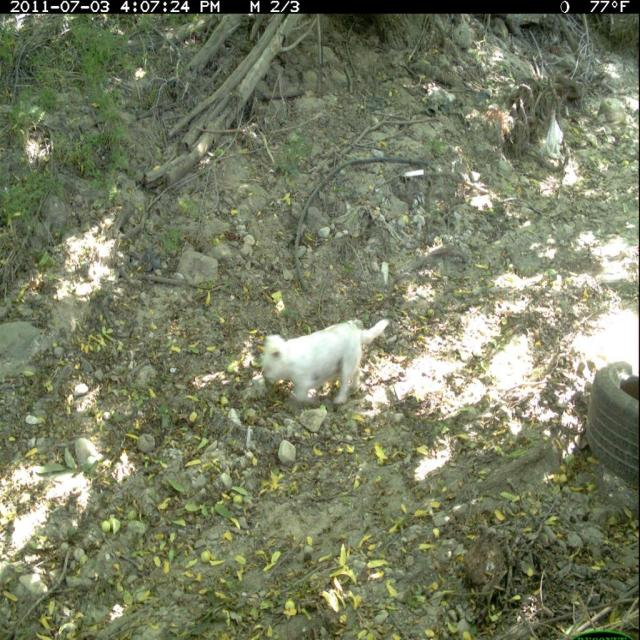dog: (257, 309, 395, 414)
